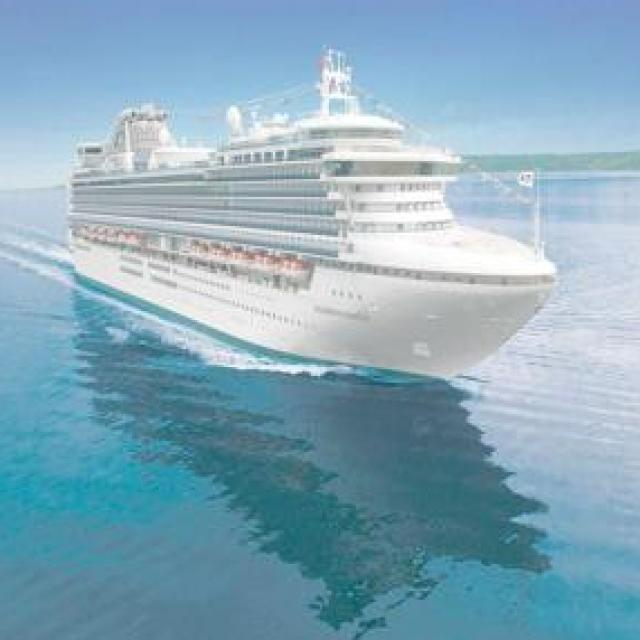passenger ship: (66, 40, 560, 380)
